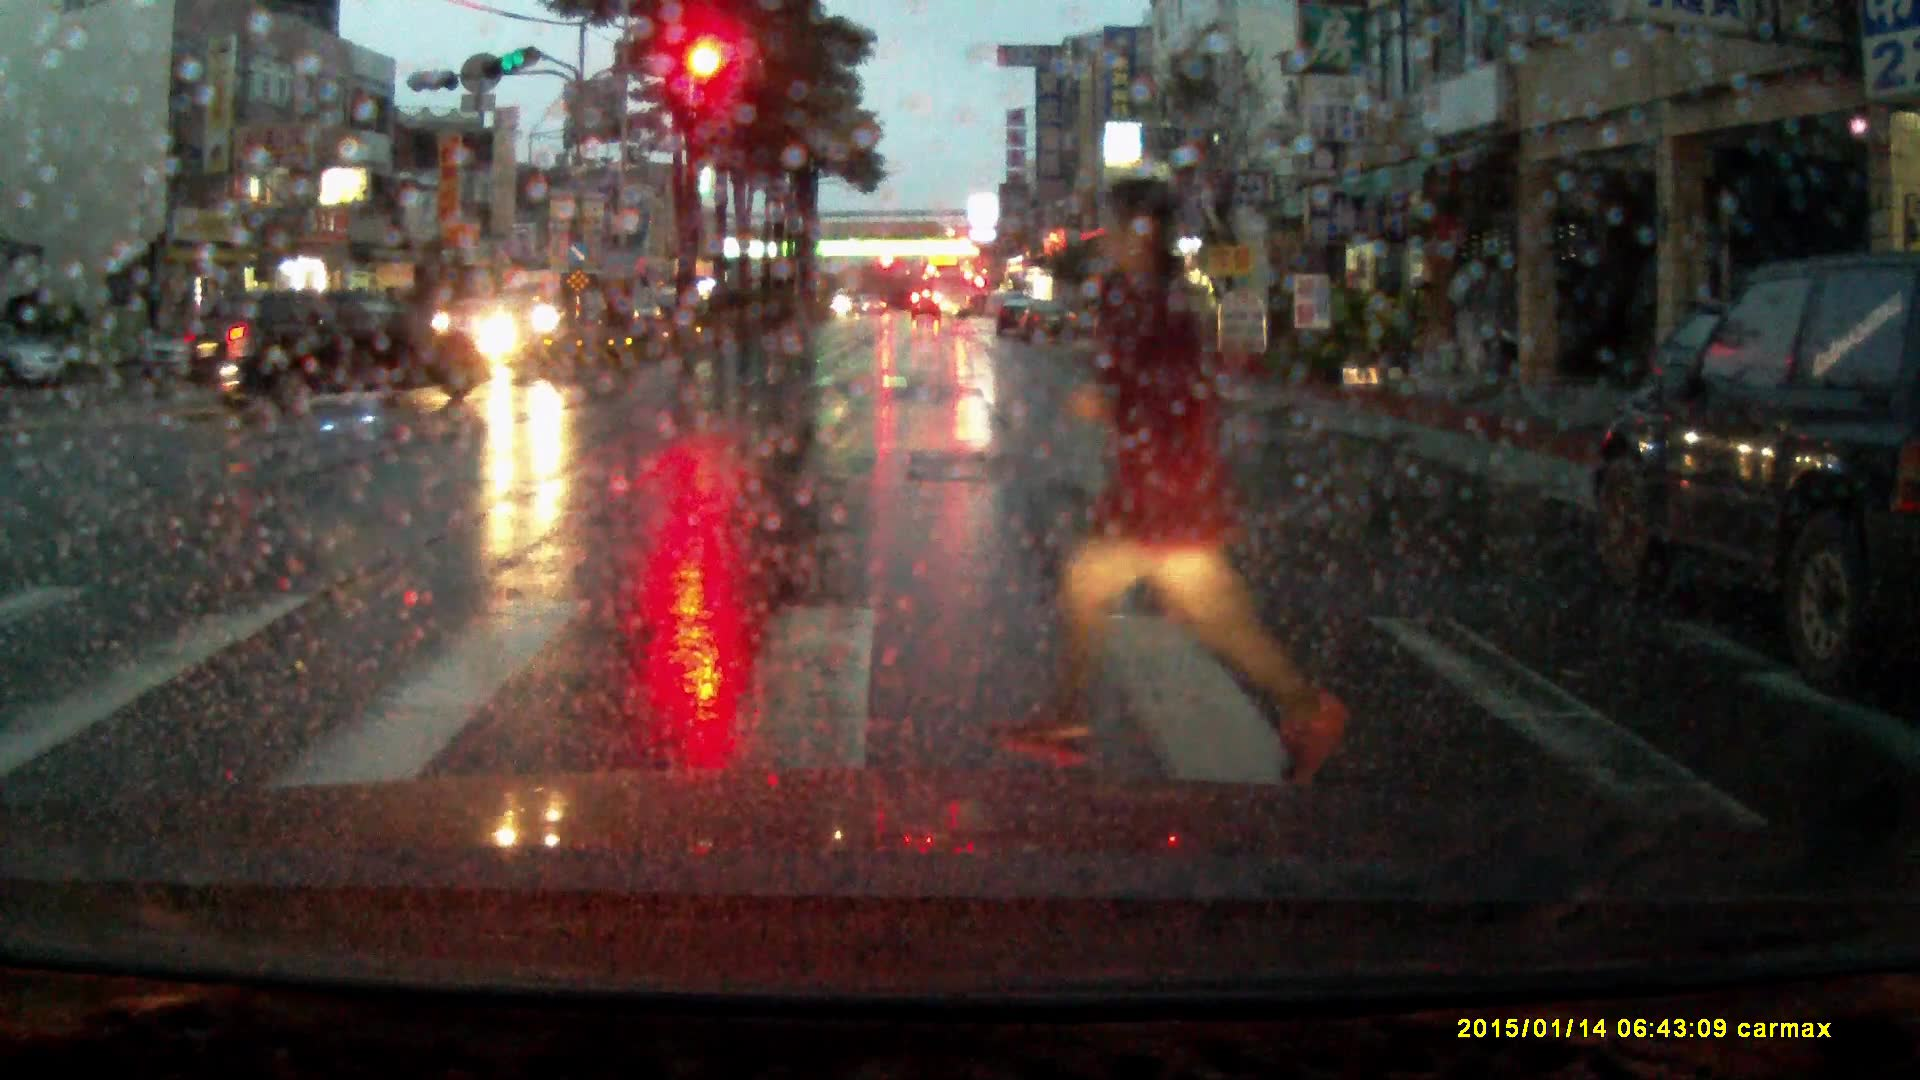pedestrian: (1021, 174, 1317, 791)
vehicle: (1582, 248, 1920, 683), (176, 288, 470, 418), (431, 298, 546, 370), (494, 268, 591, 341), (574, 288, 664, 340), (1017, 300, 1079, 346), (931, 264, 973, 321), (995, 295, 1030, 338), (911, 291, 943, 322)
